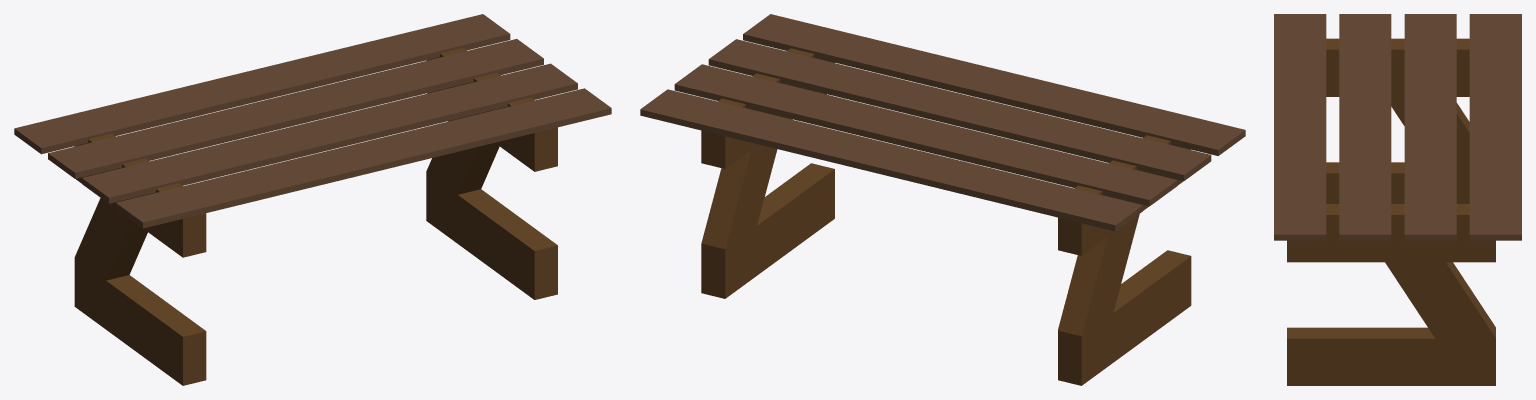
File: Bankies.fbx
The picture shows the model from 3 angles, left to right: view 1: azimuth 30°, elevation 25°; view 2: azimuth 150°, elevation 25°; view 3: azimuth 270°, elevation 25°; orthographic projection. The views are drawn at different scales.
Parts seen in each view (by area): view 1: Cube.005, Cube.001, Cube.002; view 2: Cube.005, Cube.001, Cube.002; view 3: Cube.005, Cube.002, Cube.001.
Boxes of the visible parts, x1=… form: Cube.005: x1=14, y1=14, x2=611, y2=228; Cube.001: x1=74, y1=133, x2=206, y2=385; Cube.002: x1=426, y1=48, x2=557, y2=299; Cube.005: x1=640, y1=14, x2=1245, y2=231; Cube.001: x1=1058, y1=135, x2=1191, y2=385; Cube.002: x1=701, y1=48, x2=834, y2=298; Cube.005: x1=1274, y1=14, x2=1521, y2=240; Cube.002: x1=1287, y1=204, x2=1495, y2=385; Cube.001: x1=1326, y1=38, x2=1469, y2=203.
Bounding box in the file's own units: 400 × 147 × 190.
Materials: 3 (3 with a texture image).
